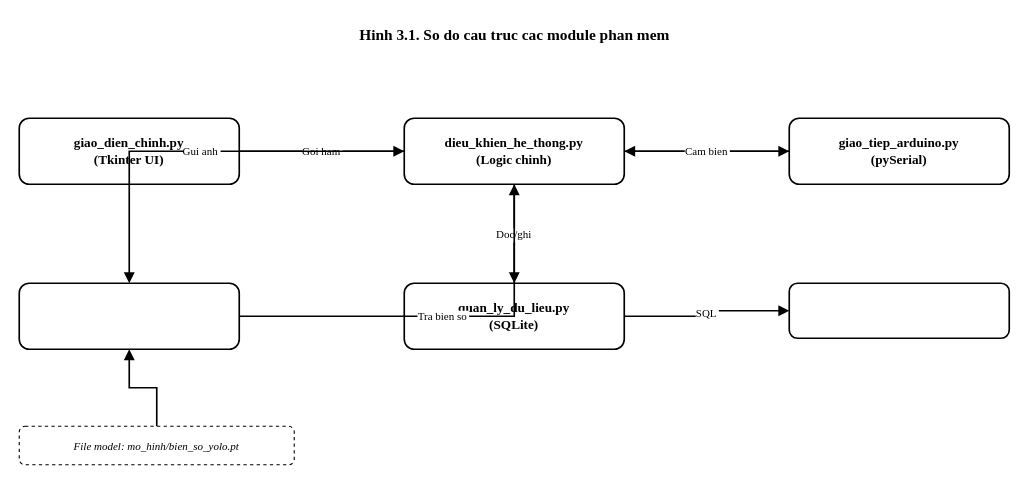
This 1030x484 diagram has some shape labels left out. Here are the shapes that lost their labels. From the top down, the box of each, then its label:
(18, 282, 240, 350): nhan_dien_bien_so.py (YOLOv8 + OCR)
(788, 282, 1010, 339): co_so_du_lieu_bai_xe.db
